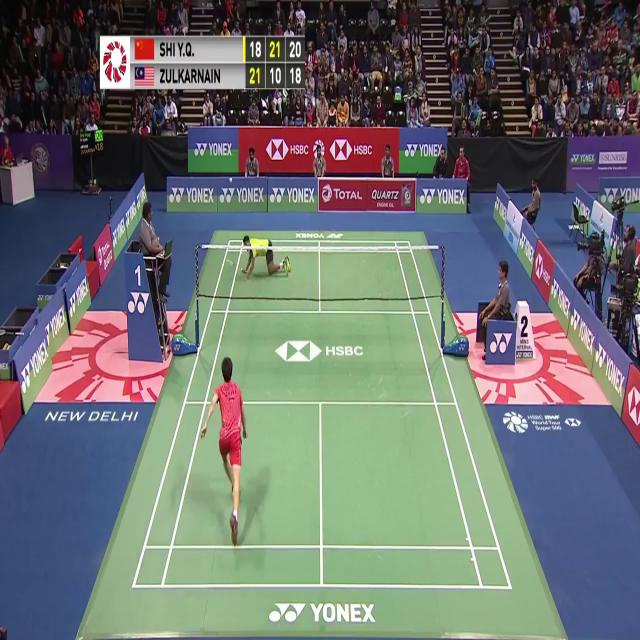Shuttlecock: (227, 175, 233, 186)
